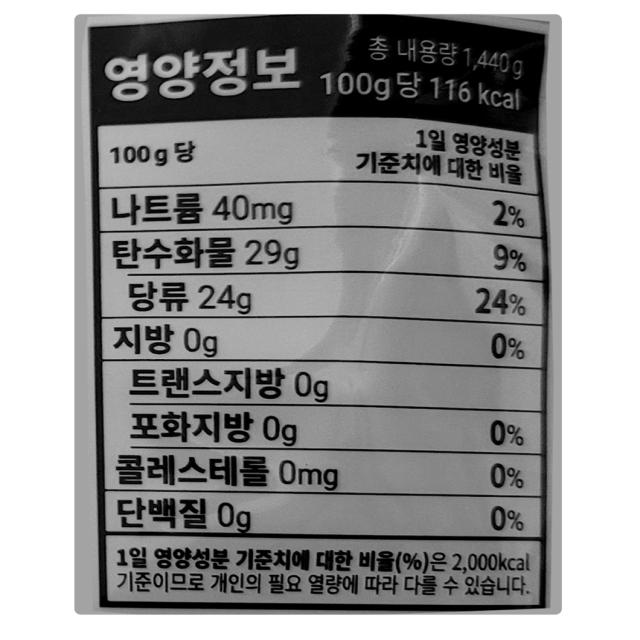Nutrition Label: (78, 11, 578, 615)
